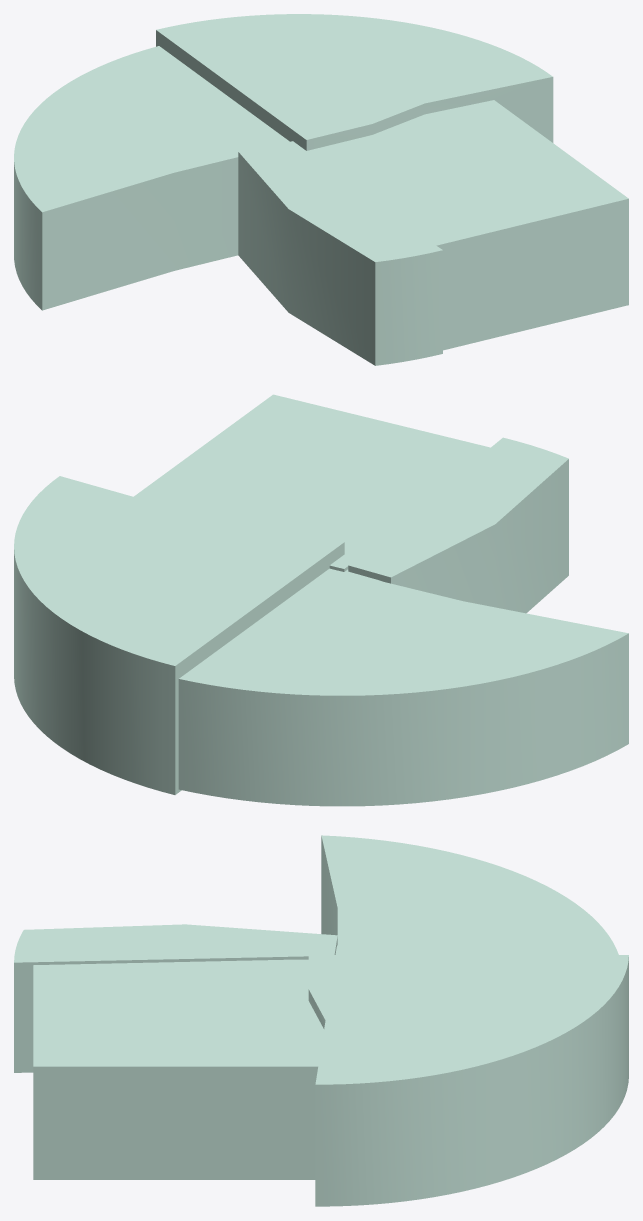
3 renders of one model, top to bottom at view 1: azimuth 30°, elevation 25°; view 2: azimuth 150°, elevation 25°; view 3: azimuth 270°, elevation 25°, orthographic. The views are drawn at different scales.
Visible parts, largest first — view 1: Renderer Node; view 2: Renderer Node; view 3: Renderer Node.
Boxes of the visible parts, bbox=[...] form: Renderer Node: bbox=[14, 14, 628, 365]; Renderer Node: bbox=[14, 394, 628, 806]; Renderer Node: bbox=[14, 835, 628, 1206].
Size of the model in its own units: 1.52 by 0.3359 by 1.5.
